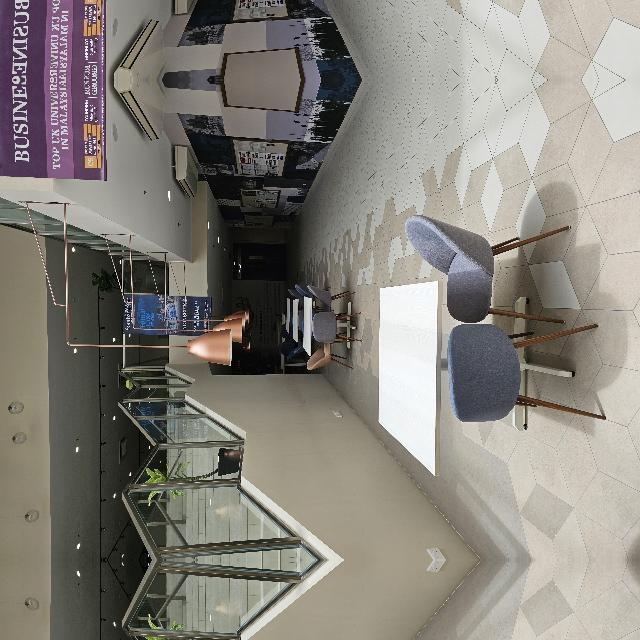obstacle: (91, 448, 349, 640), (91, 460, 349, 640), (187, 376, 275, 434)
